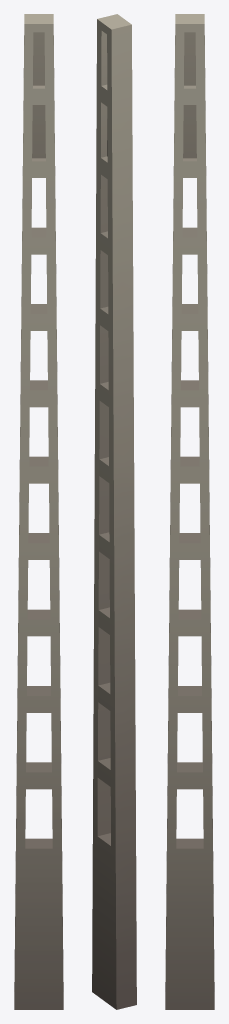
File: SM_Pillar_01.fbx
3 views of the same model, side by side, from view 1: azimuth 90°, elevation 25°; view 2: azimuth 210°, elevation 25°; view 3: azimuth 270°, elevation 25° (orthographic).
Parts seen in each view (by area): view 1: SM_Pillar_01; view 2: SM_Pillar_01; view 3: SM_Pillar_01.
Part boxes in pixels (x1,y1,x2,y2): SM_Pillar_01: (14,14,63,1009); SM_Pillar_01: (92,14,136,1009); SM_Pillar_01: (165,14,214,1009).
Bounding box in the file's own units: 0.153 × 7 × 0.3177.
